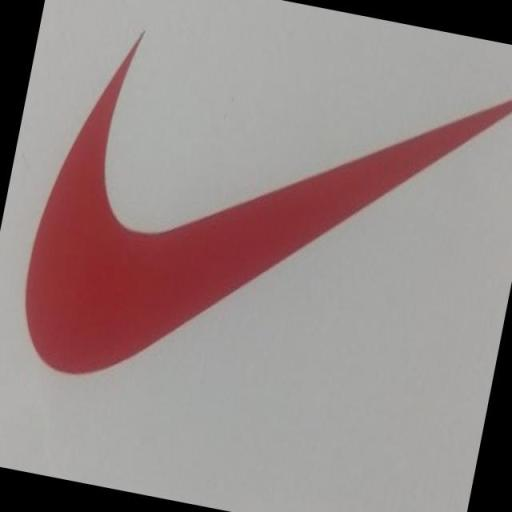Nike: (8, 0, 512, 459)
